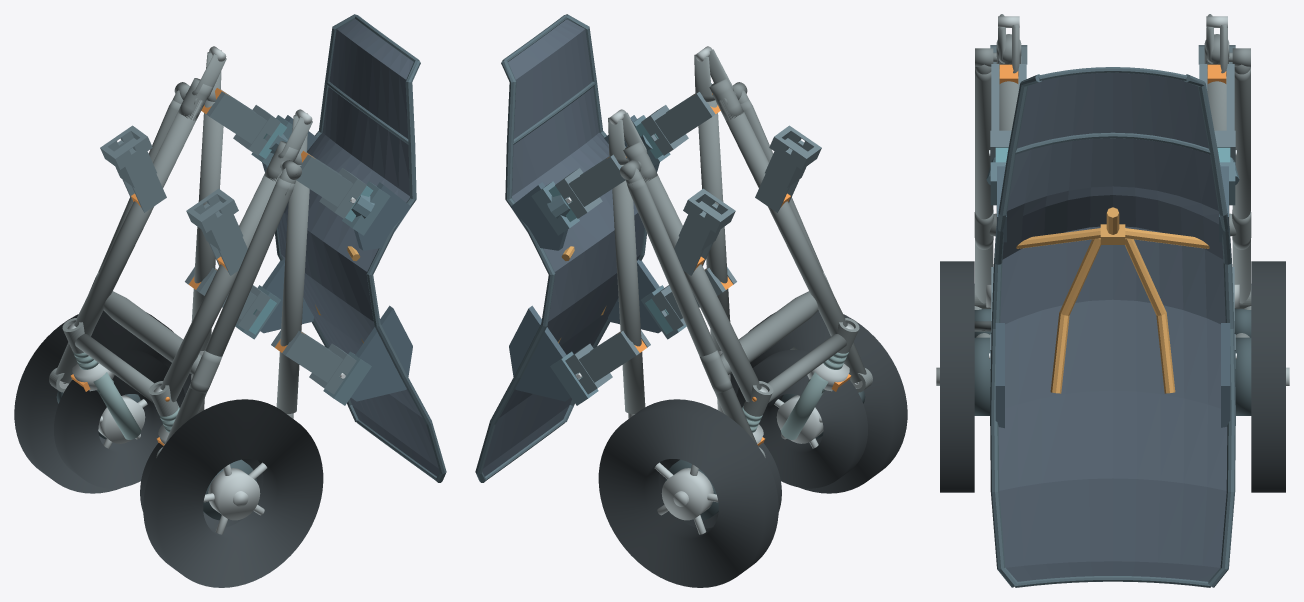
Rendered from S01_w380_state3_wheel_M.glb.
3 renders of one model, left to right at view 1: azimuth 30°, elevation 25°; view 2: azimuth 150°, elevation 25°; view 3: azimuth 270°, elevation 25°, orthographic. The views are drawn at different scales.
Visible parts, largest first — view 1: S01_Cabin, RL_tire.013, FR_tire.013, RR_tire.013, main_upper_-1.001, V46_rear_leg_-1, main_lower_1.001, main_lower_-1.001, Universal_Cabin_Receiver_L_1, Universal_Cabin_Receiver_L_-1, main_upper_1.001, Universal_Cabin_Receiver_H_-1 (+18 smaller); view 2: S01_Cabin, RR_tire.013, FL_tire.013, RL_tire.013, main_upper_1.001, V46_rear_leg_1, main_lower_-1.001, main_lower_1.001, Universal_Cabin_Receiver_L_-1, Universal_Cabin_Receiver_L_1, main_upper_-1.001, Universal_Cabin_Receiver_H_1 (+19 smaller); view 3: S01_Cabin, RL_tire.013, RR_tire.013, V46_rear_leg_1, V46_rear_leg_-1, RL_brake_backplate.013, RR_brake_backplate.013, S01_Cabin_MidDocks, Universal_Cabin_Receiver_M_-1, Universal_Cabin_Receiver_M_1, main_upper_1.001, main_upper_-1.001 (+2 smaller).
Boxes of the visible parts, bbox=[...] form: S01_Cabin: bbox=[260, 14, 446, 482]; RL_tire.013: bbox=[143, 399, 323, 587]; FR_tire.013: bbox=[54, 349, 185, 488]; RR_tire.013: bbox=[14, 310, 191, 493]; main_upper_-1.001: bbox=[276, 165, 309, 413]; V46_rear_leg_-1: bbox=[164, 177, 294, 445]; main_lower_1.001: bbox=[74, 100, 202, 336]; main_lower_-1.001: bbox=[160, 172, 281, 402]; Universal_Cabin_Receiver_L_1: bbox=[100, 125, 166, 212]; Universal_Cabin_Receiver_L_-1: bbox=[186, 188, 247, 275]; main_upper_1.001: bbox=[191, 100, 223, 350]; Universal_Cabin_Receiver_H_-1: bbox=[271, 330, 356, 394]; S01_Cabin: bbox=[475, 14, 661, 482]; RR_tire.013: bbox=[598, 399, 778, 587]; FL_tire.013: bbox=[736, 349, 867, 488]; RL_tire.013: bbox=[730, 310, 907, 493]; main_upper_1.001: bbox=[612, 165, 645, 413]; V46_rear_leg_1: bbox=[627, 177, 757, 445]; main_lower_-1.001: bbox=[719, 100, 847, 336]; main_lower_1.001: bbox=[640, 172, 761, 402]; Universal_Cabin_Receiver_L_-1: bbox=[755, 125, 821, 212]; Universal_Cabin_Receiver_L_1: bbox=[674, 188, 735, 275]; main_upper_-1.001: bbox=[698, 100, 730, 350]; Universal_Cabin_Receiver_H_1: bbox=[565, 330, 650, 394]; S01_Cabin: bbox=[990, 67, 1235, 587]; RL_tire.013: bbox=[940, 261, 974, 492]; RR_tire.013: bbox=[1251, 261, 1285, 492]; V46_rear_leg_1: bbox=[1232, 68, 1250, 303]; V46_rear_leg_-1: bbox=[975, 68, 993, 303]; RL_brake_backplate.013: bbox=[974, 337, 990, 415]; RR_brake_backplate.013: bbox=[1235, 337, 1251, 415]; S01_Cabin_MidDocks: bbox=[986, 147, 1239, 205]; Universal_Cabin_Receiver_M_-1: bbox=[990, 64, 1026, 164]; Universal_Cabin_Receiver_M_1: bbox=[1199, 64, 1235, 164]; main_upper_1.001: bbox=[1207, 77, 1229, 223]; main_upper_-1.001: bbox=[996, 77, 1018, 223].
Bounding box in the file's own units: 0.5714 × 0.7732 × 0.458.
